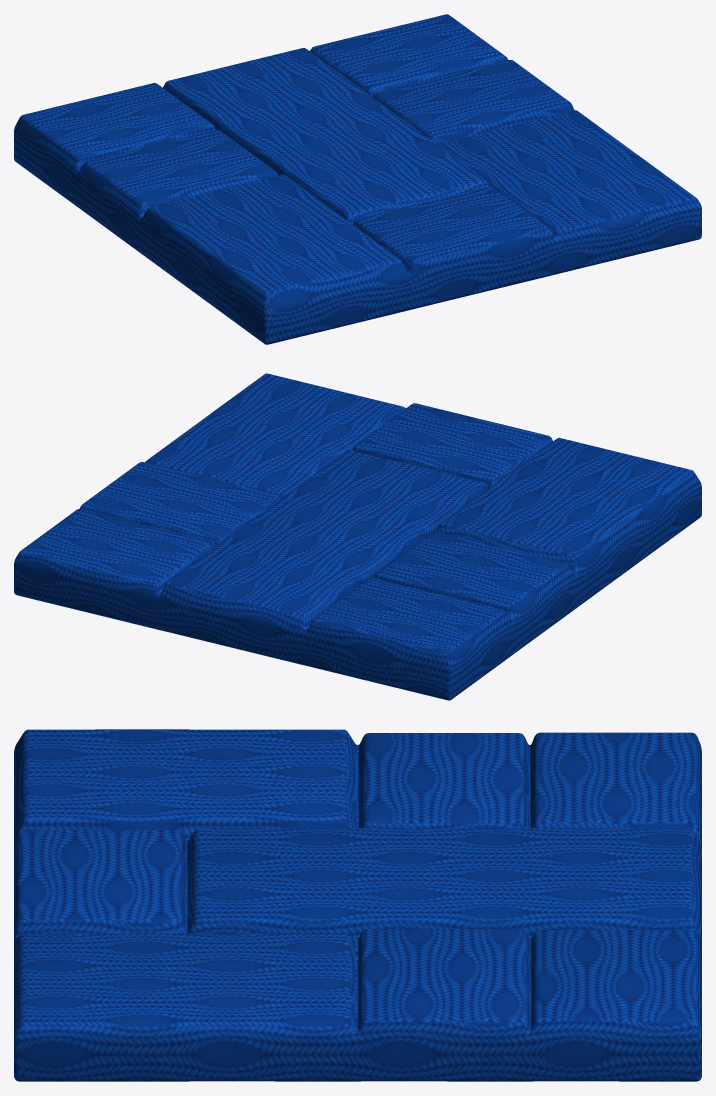
The picture shows the model from 3 angles, top to bottom: view 1: azimuth 30°, elevation 25°; view 2: azimuth 150°, elevation 25°; view 3: azimuth 270°, elevation 25°; orthographic projection. The views are drawn at different scales.
Visible parts, largest first — view 1: lp_Cube.000; view 2: lp_Cube.000; view 3: lp_Cube.000.
Boxes of the visible parts, x1,y1,x2,y2 form: lp_Cube.000: [14, 14, 701, 344]; lp_Cube.000: [14, 373, 701, 700]; lp_Cube.000: [14, 729, 701, 1081].
Size of the model in its own units: 2 by 0.2175 by 2.
Materials: 1 (1 with a texture image).
